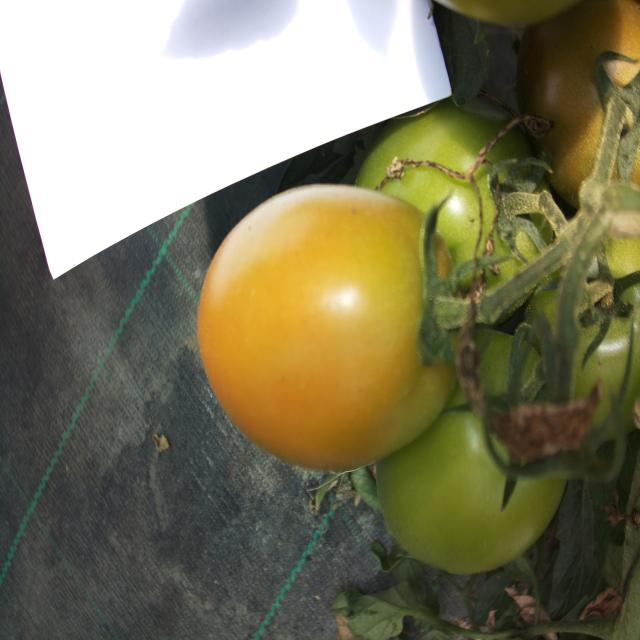sari: (197, 192, 477, 465)
